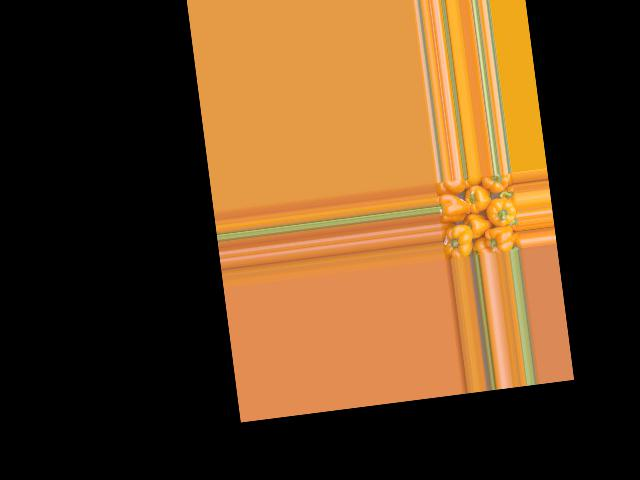bell_pepper: (434, 179, 466, 195)
